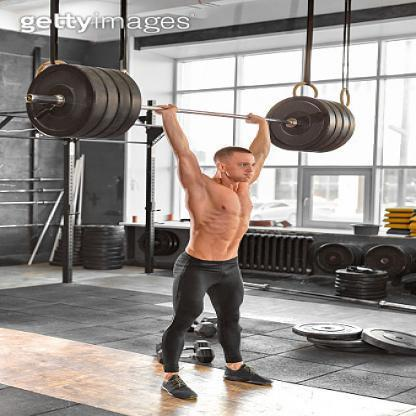Barbell: (22, 88, 37, 109)
